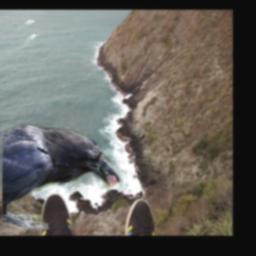Crow: (2, 124, 120, 230)
